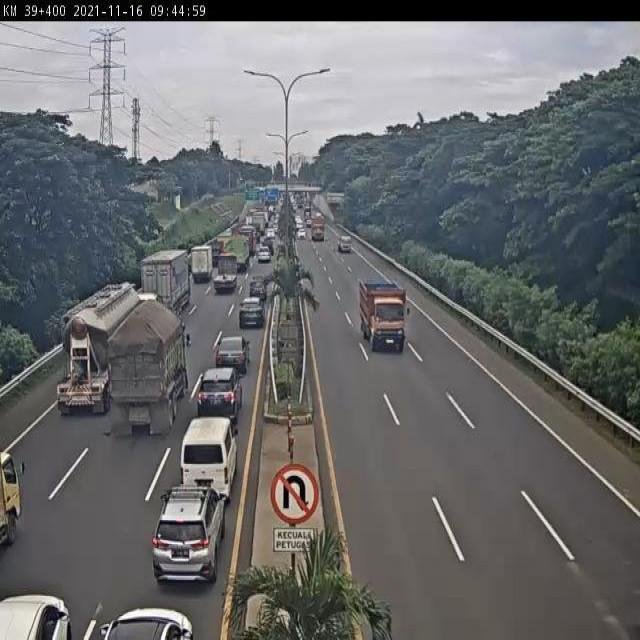car: (152, 488, 225, 581), (179, 420, 237, 497), (196, 366, 242, 418), (213, 343, 246, 377), (239, 299, 266, 332), (248, 276, 266, 301)
small truck: (190, 241, 215, 283)
truck-l-: (110, 300, 189, 439), (141, 246, 192, 322), (224, 236, 249, 272)
truck-m-: (358, 281, 408, 352), (213, 251, 242, 293)
truck-xl-: (57, 283, 152, 413)
